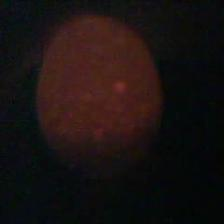fertile: (32, 13, 164, 177)
